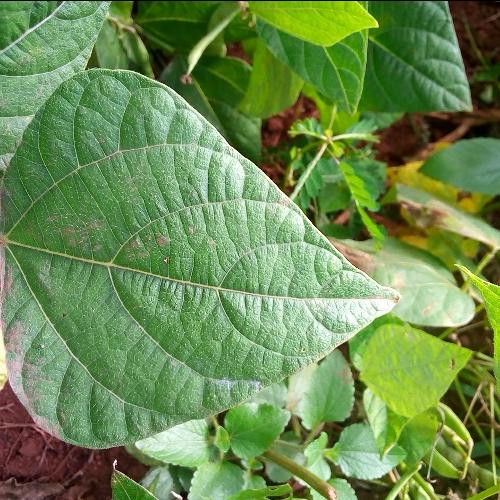embun tepung: (33, 104, 310, 383)
